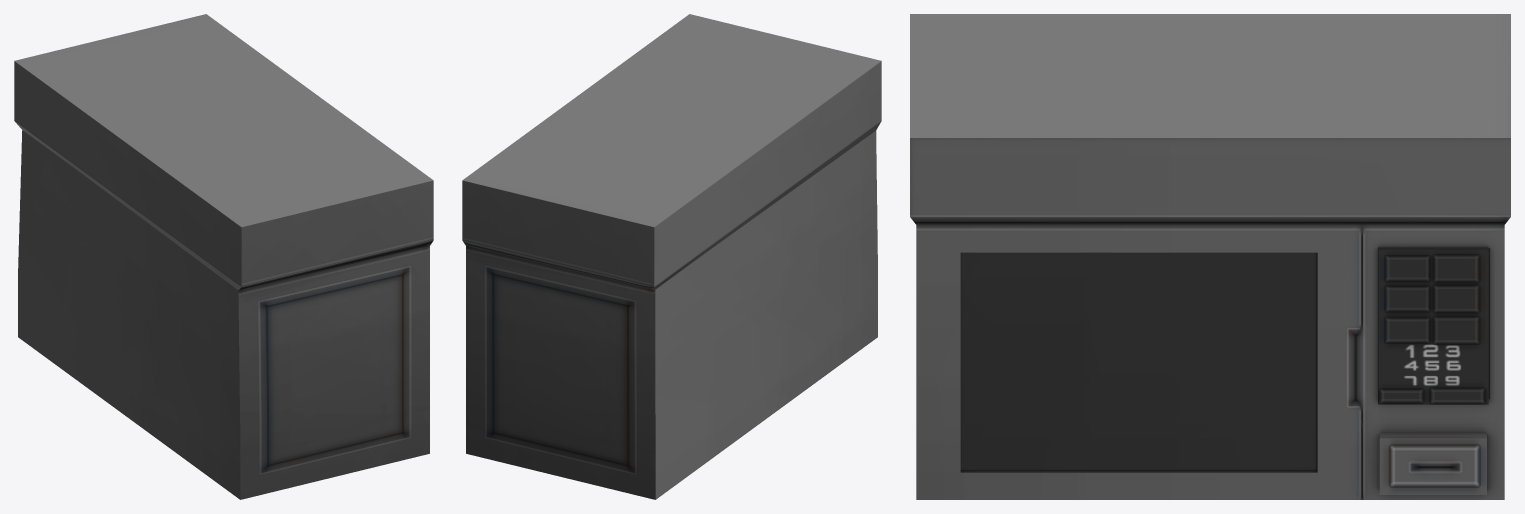
File: m_microwave.fbx
The picture shows the model from 3 angles, left to right: view 1: azimuth 30°, elevation 25°; view 2: azimuth 150°, elevation 25°; view 3: azimuth 270°, elevation 25°; orthographic projection. The views are drawn at different scales.
Visible parts, largest first — view 1: m_microwave; view 2: m_microwave; view 3: m_microwave.
Boxes of the visible parts, box(x1,y1,x2,y2) form: m_microwave: box(14, 14, 433, 499); m_microwave: box(462, 14, 881, 499); m_microwave: box(910, 14, 1510, 499).
Size of the model in its own units: 27.47 by 36.51 by 54.78.
